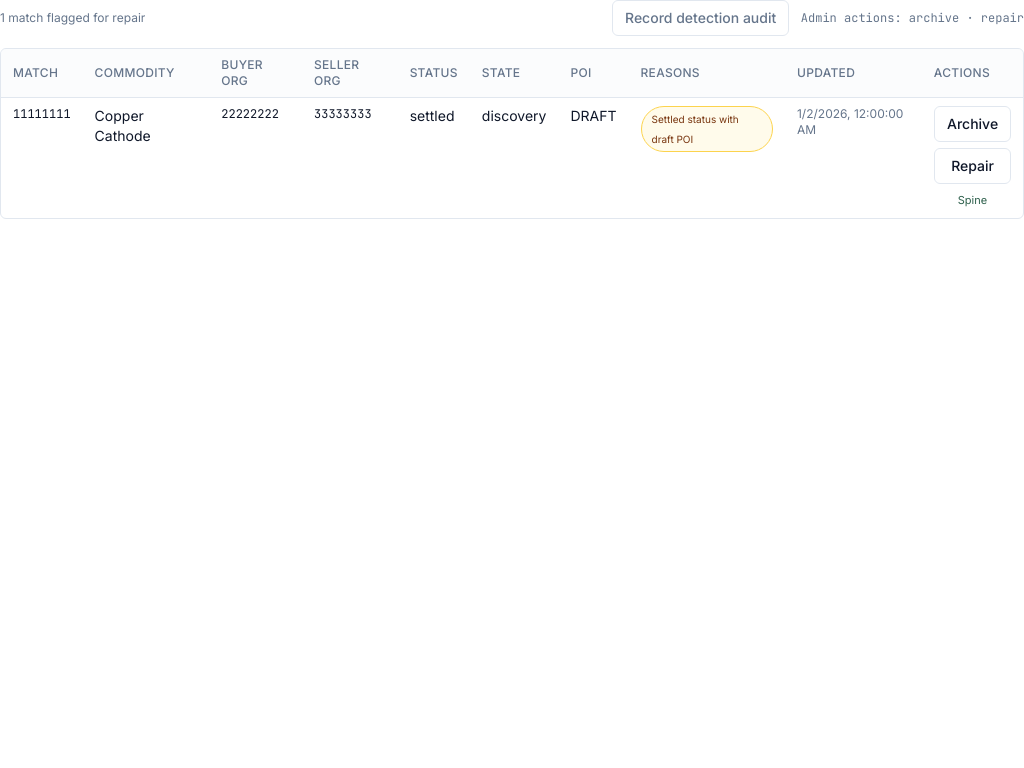
Test: AdminLegacyRepairPanel — Step 5 admin actions › opens repair dialog and lists allowed operations with deferred one disabled
The image size is (1024, 768).
Check: the text "Copper Cathode" is shown, box [83,98,209,218]
Click the button "Repair".
click(972, 166)  # box [934,148,1011,184]
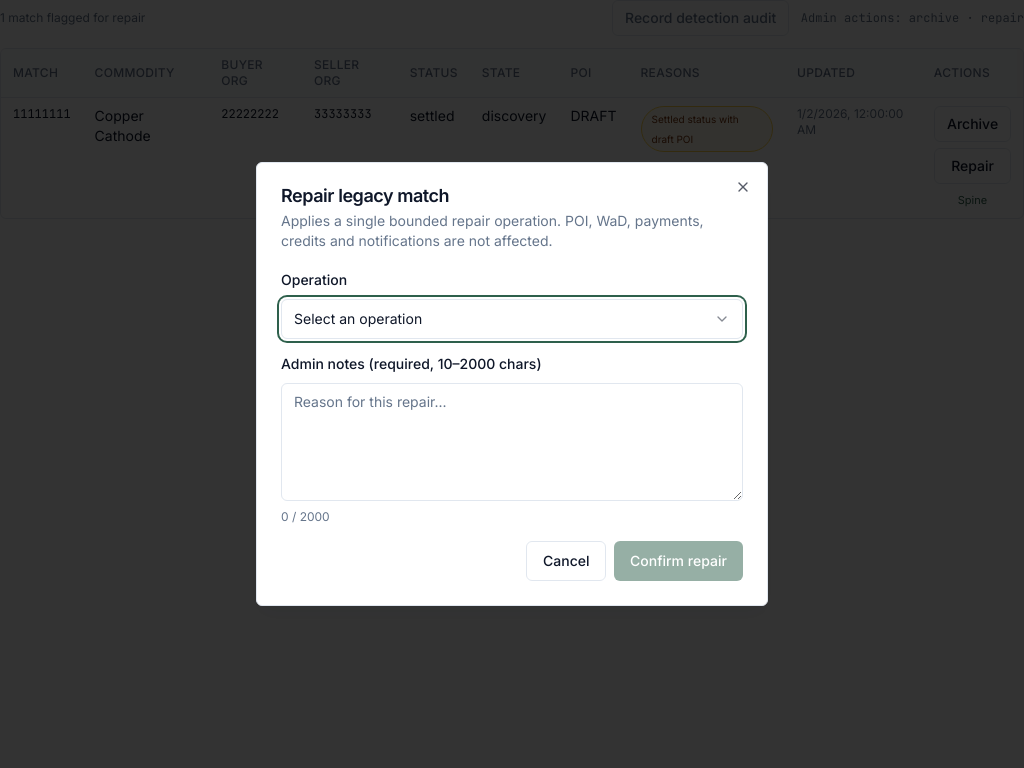
Check: the heading "Repair legacy match" is shown, box [281,185,449,206]
Click the dropdown.
click(358, 318)  # box [281,299,743,339]
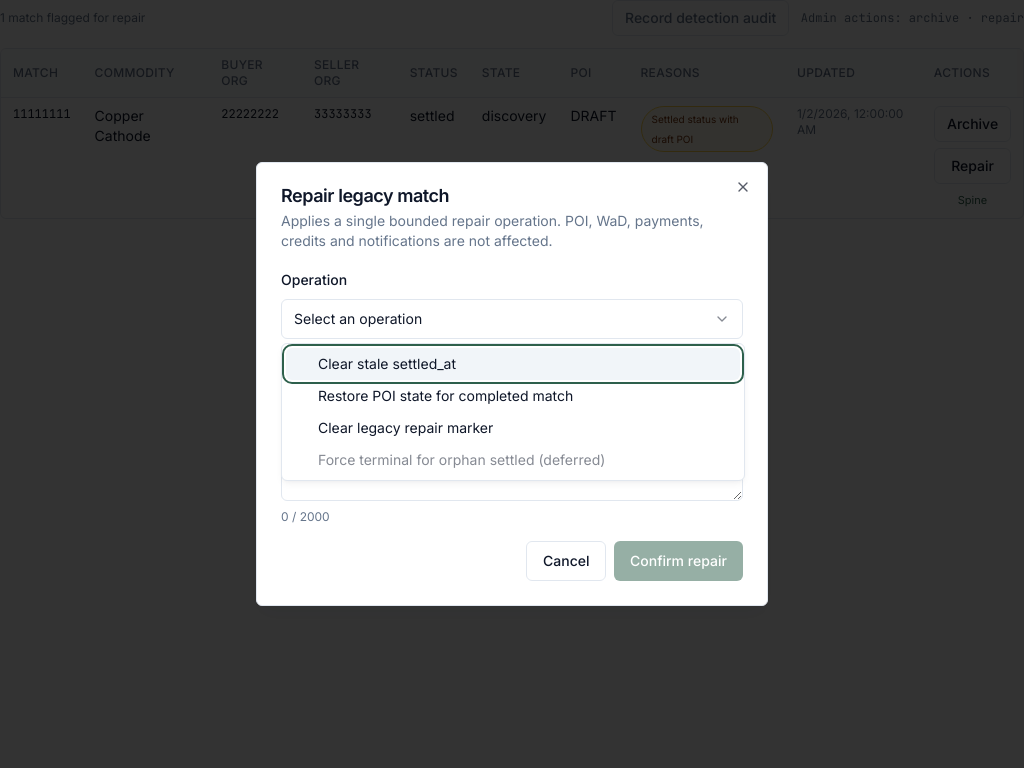
Check: the option "Clear stale settled_at" is shown, box [286,348,740,380]
Check: the option "Restore POI state for completed match" is shown, box [318,387,573,404]
Check: the option "Clear legacy repair marker" is shown, box [318,419,493,436]
